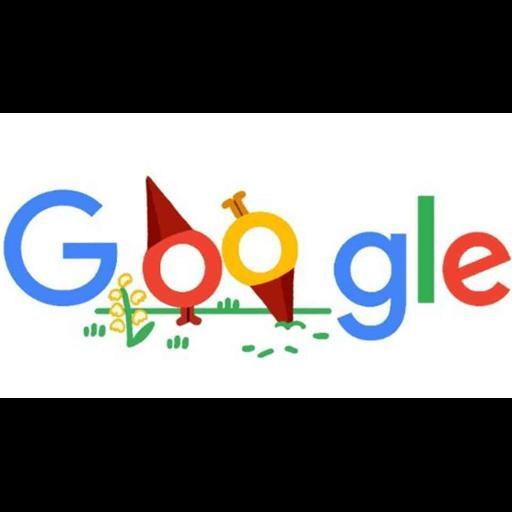Google: (0, 113, 512, 398)
